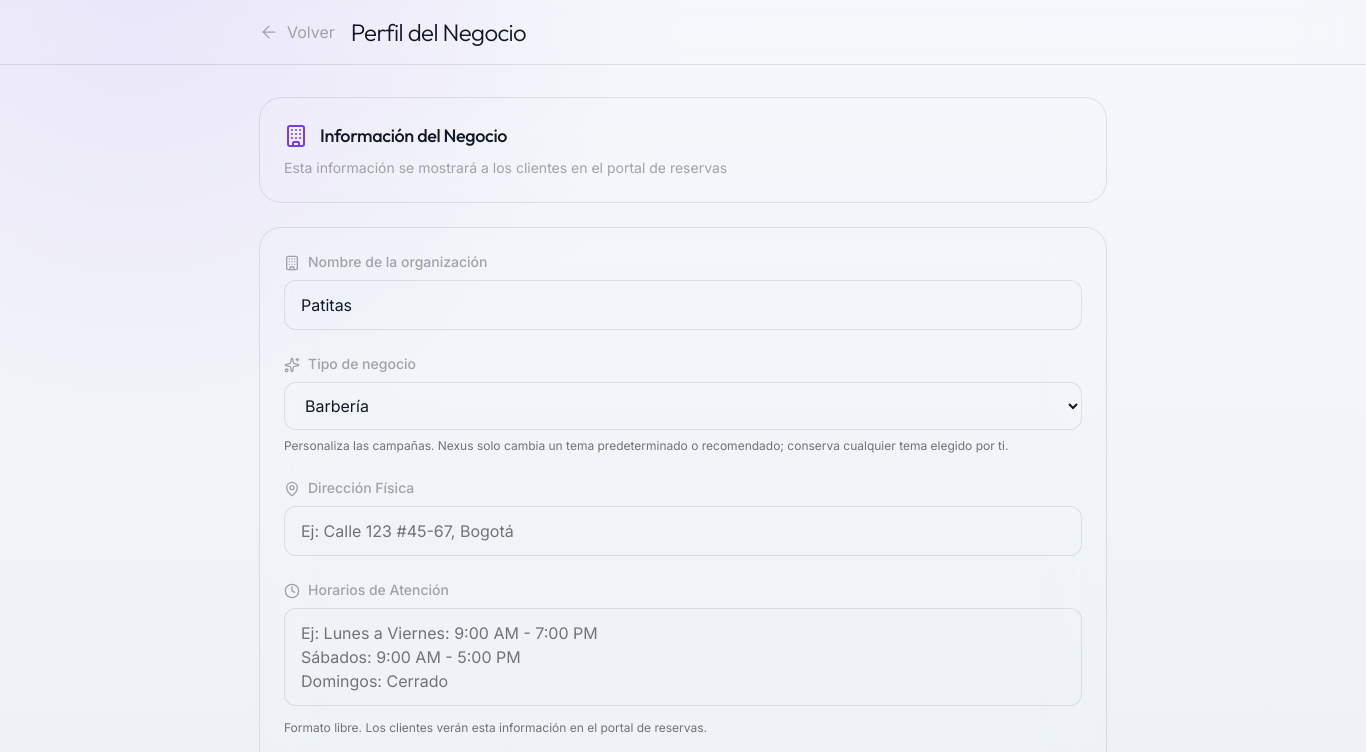
Test: BusinessProfile › keeps a chosen portal theme when the business type changes
Later steps or results of the test are not shown.
Select "Grooming para mascotas" in the dropdown with test id "business-type-select": x=683, y=406 [284,382,1082,430]
(page scrolled)
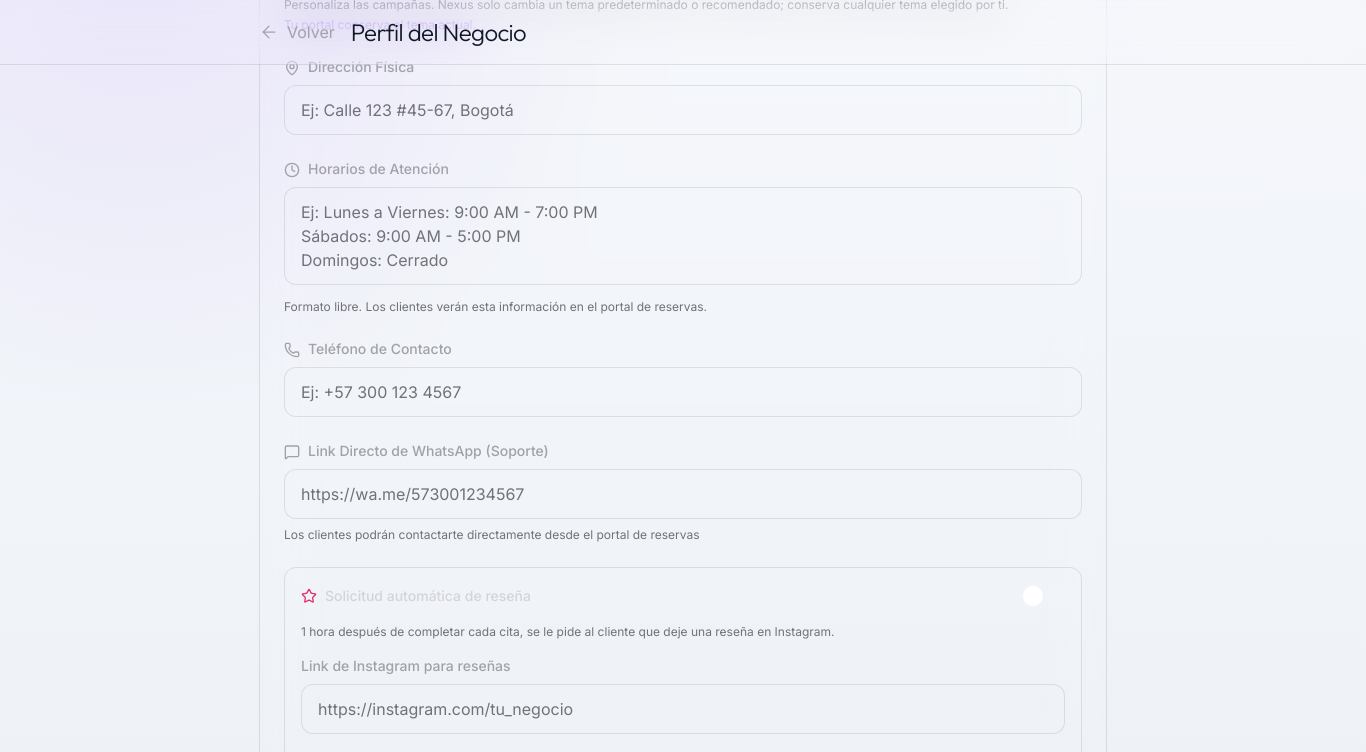
Now the message "Tu portal conserva el tema actual." is shown, box [284,17,476,32]
